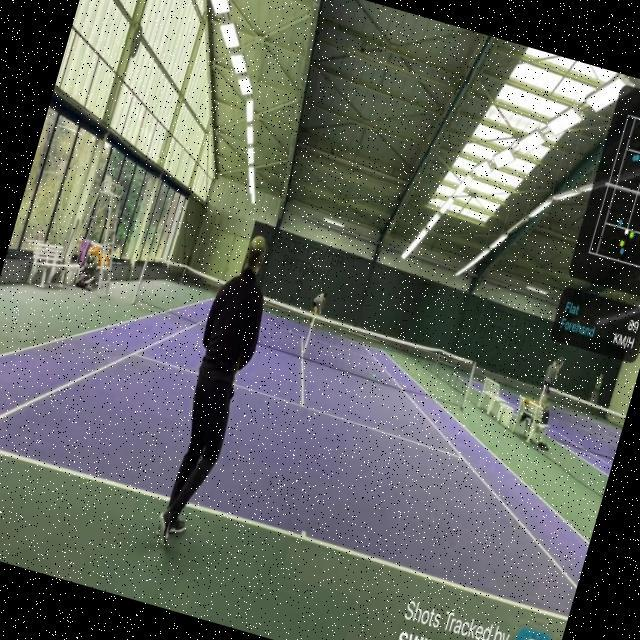court: (0, 239, 625, 622)
net: (128, 250, 482, 410)
player: (143, 227, 286, 556)
